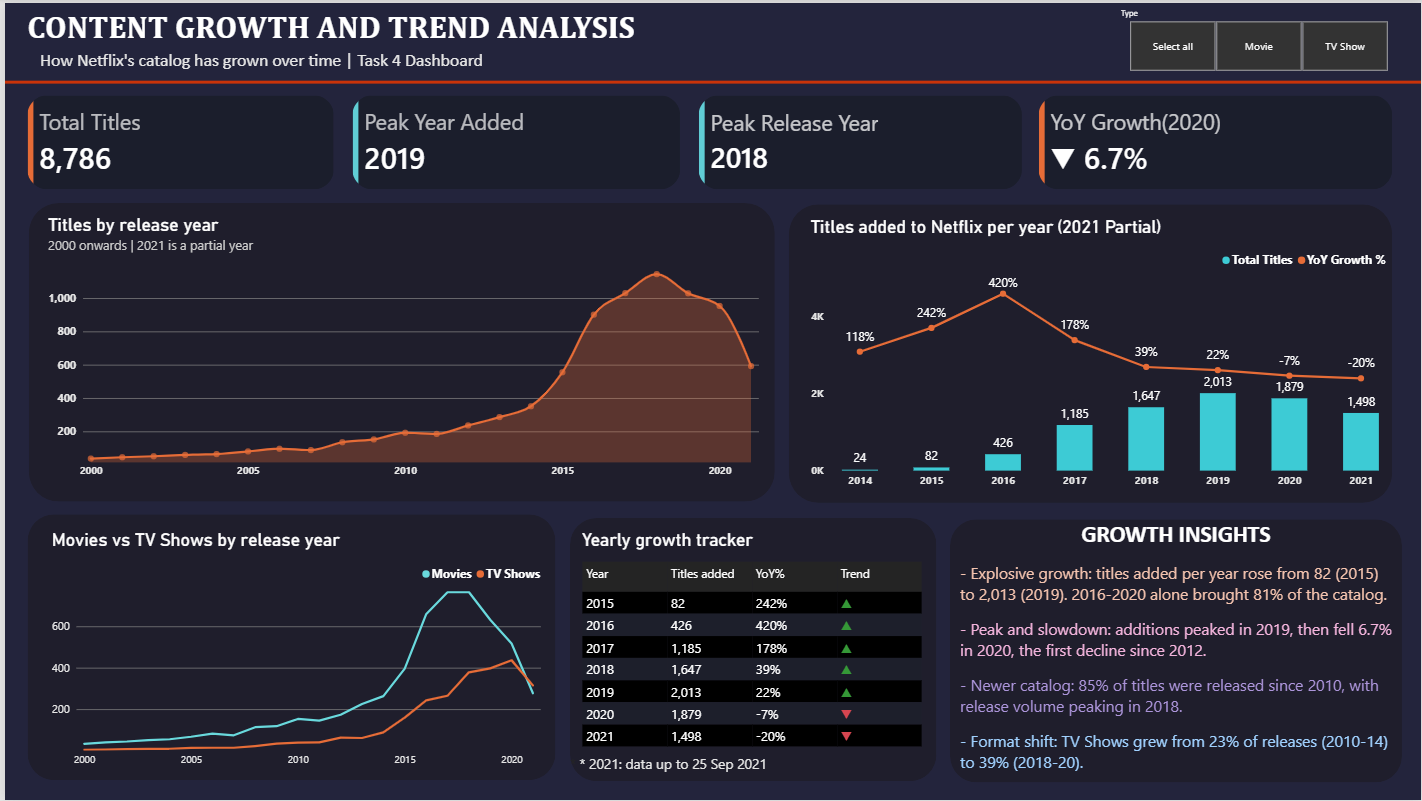

This screenshot's page, from the dashboard's own definition file:
{"tool":"powerbi","page":{"name":"Task 4 - Content Growth","canvas":[1920,1080],"ordinal":1},"visuals":[{"type":"shape","box":[31.7,271.7,1011.7,405],"z":0},{"type":"shape","box":[1063.3,273.3,818.3,405],"z":1000},{"type":"shape","box":[31.3,693.9,716,360.7],"z":2000},{"type":"shape","box":[765.6,697.5,496.9,357.1],"z":3000},{"type":"shape","box":[1281,699.4,612.9,357.1],"z":4000},{"type":"shape","box":[0,90.6,1920.4,35],"z":5000},{"type":"cardVisual","fields":{"Data":["Netflix_Main.Total Titles"]},"box":[30.9,125.6,415.8,127.6],"z":6000},{"type":"cardVisual","fields":{"Data":["Netflix_Main.Peak Year Added"]},"box":[471.4,125.6,444.6,127.6],"z":7000},{"type":"cardVisual","fields":{"Data":["Netflix_Main.Peak Release Year"]},"box":[940.7,125.6,438.4,127.6],"z":8000},{"type":"cardVisual","fields":{"Data":["Netflix_Main.YoY Growth 2020"]},"box":[1401.7,125.6,479.6,127.6],"z":9000},{"type":"lineChart","title":" Movies vs TV Shows by release year","fields":{"Category":["Netflix_Main.release_year"],"Y":["Netflix_Main.Movies","Netflix_Main.TV Shows"]},"box":[47.9,699.4,699.4,355.2],"z":10000},{"type":"slicer","fields":{"Values":["Netflix_Main.type"]},"box":[1505.5,7.4,388.3,86.5],"z":11000},{"type":"textbox","box":[31.3,7.4,955.2,60.7],"z":12000},{"type":"textbox","box":[31.3,57.1,300,47.9],"z":13000},{"type":"textbox","box":[47.9,62.6,631.3,42.3],"z":14000},{"type":"areaChart","title":"Titles by release year","fields":{"Category":["Netflix_Main.release_year"],"Y":["Netflix_Main.Total Titles"]},"box":[42.3,272.4,1001.2,392],"z":15000},{"type":"lineClusteredColumnComboChart","title":"Titles added to Netflix per year (2021 Partial)","fields":{"Category":["Netflix_Main.Year"],"Y":["Netflix_Main.Total Titles"],"Y2":["Netflix_Main.YoY Growth %"]},"box":[1076.7,274.2,817.2,403.1],"z":16000},{"type":"tableEx","title":"Yearly growth tracker","fields":{"Values":["Netflix_Main.Year","Netflix_Main.Total Titles","Netflix_Main.YoY Growth %","Netflix_Main.Trend"]},"box":[765.6,699.4,496.9,351.5],"z":17000},{"type":"textbox","box":[1295.7,699.4,585.3,357.1],"z":18000},{"type":"textbox","box":[765.6,1017.8,300,36.8],"z":19000}]}

Visuals, with their boxes in screenshot pixels (x1, y1, x2, y2), scaled from the page's 1920x1080 canvas onto the 1422x801 screenshot:
shape: x1=23, y1=202, x2=773, y2=502
shape: x1=788, y1=203, x2=1394, y2=503
shape: x1=23, y1=515, x2=553, y2=782
shape: x1=567, y1=517, x2=935, y2=782
shape: x1=949, y1=519, x2=1403, y2=784
shape: x1=0, y1=67, x2=1421, y2=93
cardVisual - Netflix_Main.Total Titles: x1=23, y1=93, x2=331, y2=188
cardVisual - Netflix_Main.Peak Year Added: x1=349, y1=93, x2=678, y2=188
cardVisual - Netflix_Main.Peak Release Year: x1=697, y1=93, x2=1021, y2=188
cardVisual - Netflix_Main.YoY Growth 2020: x1=1038, y1=93, x2=1393, y2=188
" Movies vs TV Shows by release year" lineChart: x1=35, y1=519, x2=553, y2=782
slicer - Netflix_Main.type: x1=1115, y1=5, x2=1403, y2=70
textbox: x1=23, y1=5, x2=731, y2=51
textbox: x1=23, y1=42, x2=245, y2=78
textbox: x1=35, y1=46, x2=503, y2=78
"Titles by release year" areaChart: x1=31, y1=202, x2=773, y2=493
"Titles added to Netflix per year (2021 Partial)" lineClusteredColumnComboChart: x1=797, y1=203, x2=1403, y2=502
"Yearly growth tracker" tableEx: x1=567, y1=519, x2=935, y2=779
textbox: x1=960, y1=519, x2=1393, y2=784
textbox: x1=567, y1=755, x2=789, y2=782
